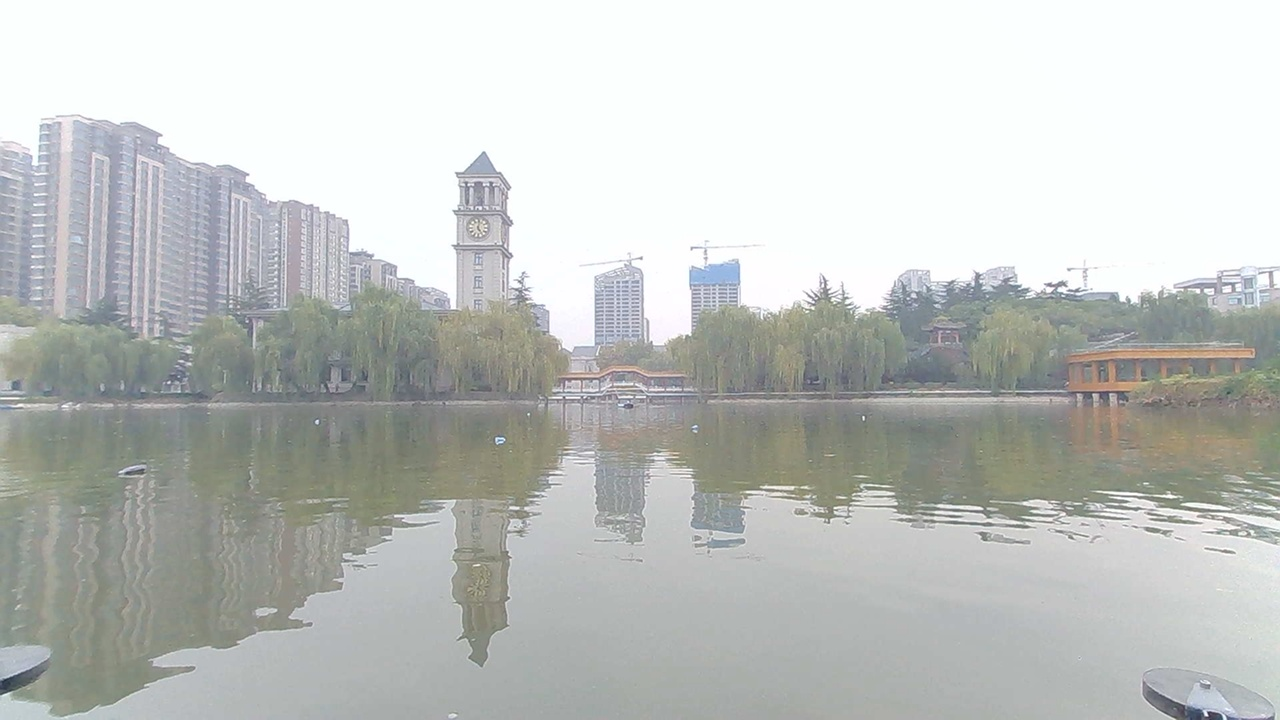bottle: (93, 453, 166, 486), (688, 411, 722, 438), (298, 409, 336, 433), (845, 403, 875, 429), (481, 434, 518, 455), (521, 406, 550, 428)
